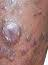plaque psoriasis: (15, 33, 39, 65), (0, 21, 23, 46), (0, 43, 17, 62), (30, 0, 44, 4)
